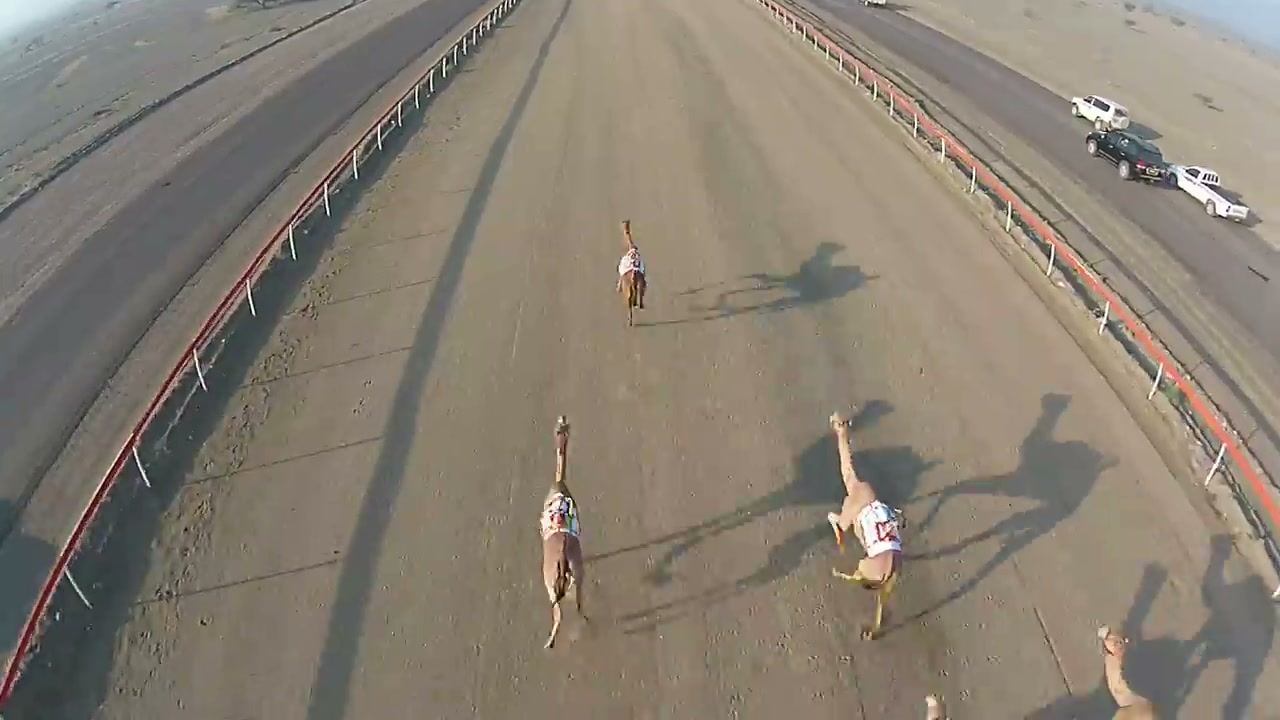animal_foot_print: (812, 577, 857, 719)
